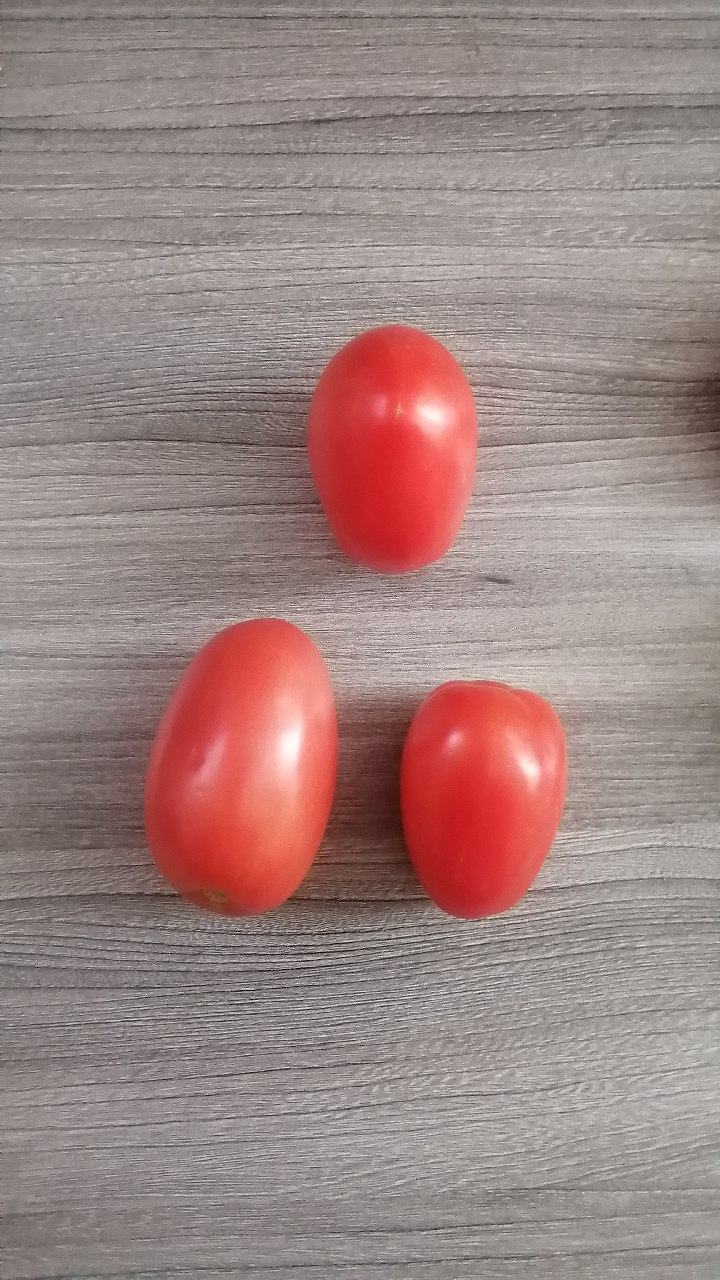tomateRojo: (98, 592, 358, 939), (284, 299, 506, 597), (380, 662, 603, 948)
